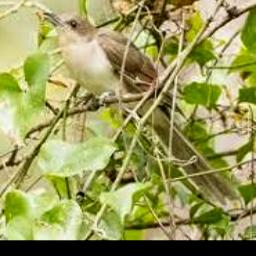Cuckoo: (44, 10, 241, 207)
